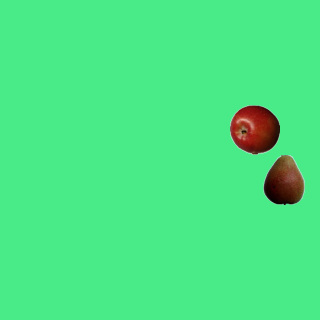Apple Braeburn: (229, 104, 279, 154)
Pear Forelle: (258, 154, 308, 204)
